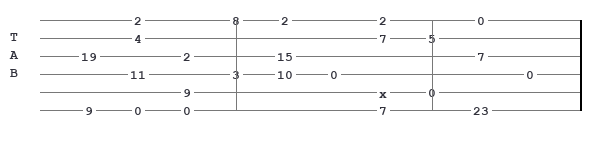0: (134, 104, 146, 116), (183, 104, 195, 116), (330, 68, 342, 80), (428, 86, 440, 98), (477, 14, 489, 26), (526, 68, 538, 80)
10: (277, 68, 297, 80)
11: (130, 68, 150, 80)
15: (277, 50, 297, 62)
19: (81, 50, 101, 62)
2: (134, 14, 146, 26), (183, 50, 195, 62), (281, 14, 293, 26), (379, 14, 391, 26)
23: (473, 104, 493, 116)
3: (232, 68, 244, 80)
4: (134, 32, 146, 44)
5: (428, 32, 440, 44)
7: (379, 32, 391, 44), (379, 104, 391, 116), (477, 50, 489, 62)
8: (232, 14, 244, 26)
9: (85, 104, 97, 116), (183, 86, 195, 98)
x: (379, 87, 391, 97)
